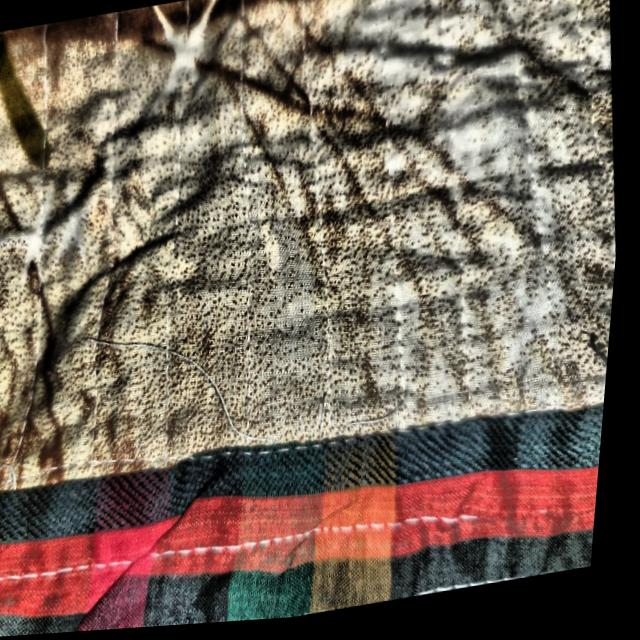Stitch: (58, 287, 304, 497)
